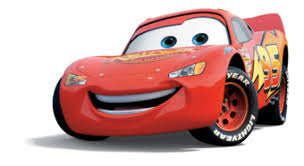mcqueen: (52, 7, 290, 147)
